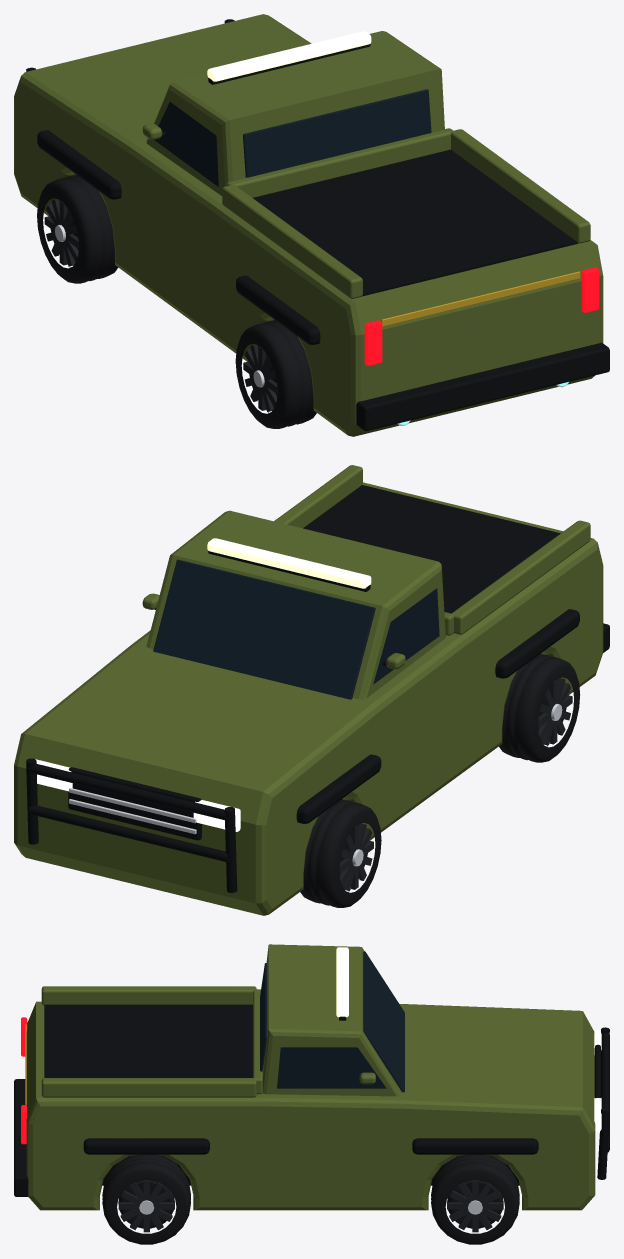
File: atlas-hauler.glb
3 views of the same model, one above another, from view 1: azimuth 30°, elevation 25°; view 2: azimuth 150°, elevation 25°; view 3: azimuth 270°, elevation 25° (orthographic). The views are drawn at different scales.
Visible parts, largest first — view 1: Body, BedLiner, Cabin, Tire (×2), RearWindow, BedRail (×2), RearBumper, BedFront, FenderFlare (×2), SideGlass, LightBar, TailLight (×2) (+1 smaller); view 2: Body, Windscreen, Cabin, BedLiner, Tire (×2), BedRail (×2), PushBar (×2), FenderFlare (×2), Grille, SideGlass, LightBar, PushBarPost (×2) (+1 smaller); view 3: Body, BedLiner, Cabin, BedRail (×2), Tire (×2), FenderFlare (×2), SideGlass, Windscreen, RearBumper, RimDish (×2), LightBar, BedFront (+3 smaller).
Boxes of the visible parts, x1,y1,x2,y2 form: Body: [14, 14, 603, 436]; BedLiner: [253, 149, 578, 296]; Cabin: [146, 31, 444, 195]; Tire (×2): [37, 174, 316, 428]; RearWindow: [243, 89, 431, 177]; BedRail (×2): [222, 129, 590, 298]; RearBumper: [356, 342, 609, 430]; BedFront: [226, 128, 453, 197]; FenderFlare (×2): [37, 130, 320, 344]; SideGlass: [154, 102, 218, 186]; LightBar: [207, 31, 371, 81]; TailLight (×2): [364, 267, 599, 365]; Body: [14, 482, 603, 915]; Windscreen: [153, 559, 375, 699]; Cabin: [146, 510, 445, 699]; BedLiner: [303, 485, 560, 613]; Tire (×2): [300, 653, 580, 907]; BedRail (×2): [274, 465, 590, 634]; PushBar (×2): [28, 764, 228, 862]; FenderFlare (×2): [296, 609, 579, 823]; Grille: [68, 767, 201, 840]; SideGlass: [373, 588, 439, 684]; LightBar: [207, 538, 371, 588]; PushBarPost (×2): [26, 758, 237, 892]; Body: [26, 1001, 595, 1210]; BedLiner: [44, 1004, 252, 1077]; Cabin: [262, 944, 401, 1096]; BedRail (×2): [41, 986, 256, 1097]; Tire (×2): [102, 1154, 519, 1244]; FenderFlare (×2): [83, 1138, 538, 1154]; SideGlass: [277, 1047, 386, 1088]; Windscreen: [363, 951, 404, 1092]; RearBumper: [14, 1079, 28, 1196]; RimDish (×2): [118, 1180, 503, 1228]; LightBar: [336, 947, 348, 1017]; BedFront: [253, 989, 262, 1094].
Size of the model in its own units: 2.27 by 1.82 by 4.72.
